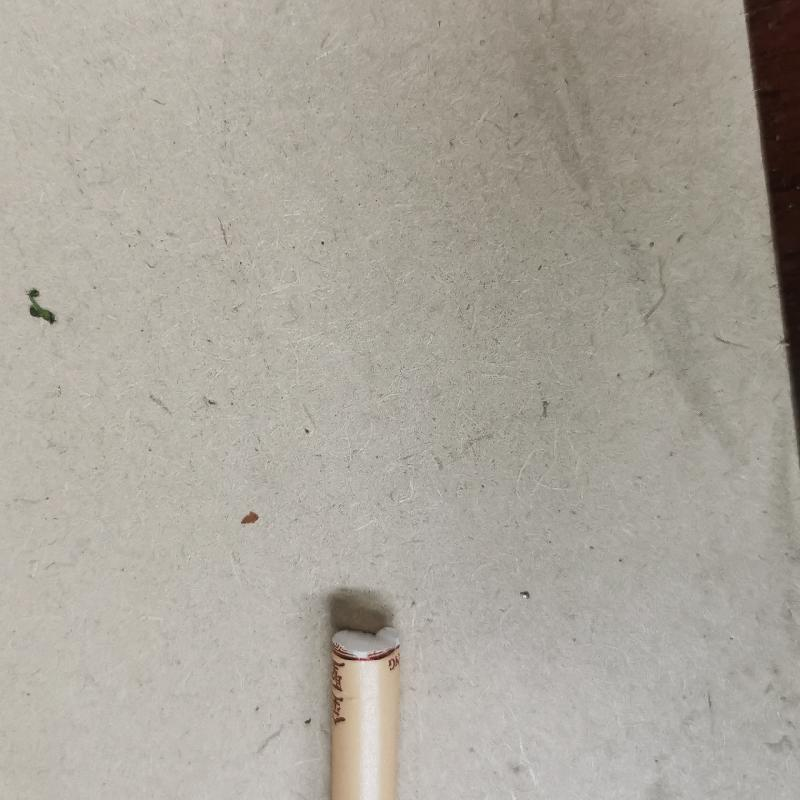cigarette: (321, 619, 406, 799)
